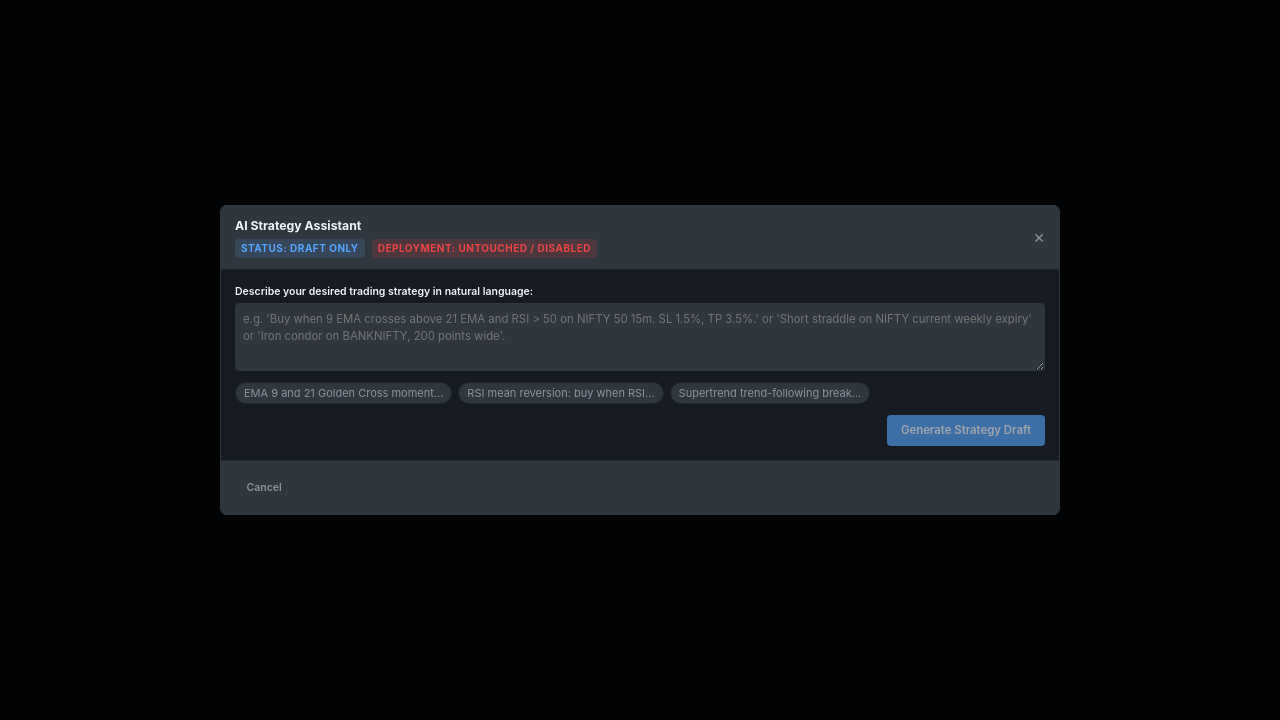
Test case: AIDraftModal Component (F5.3) › generates draft, displays diff, explanation, and warnings
Replace the text in the text box with test id "ai-prompt-input" with "Buy when 9 EMA crosses above 21 EMA on NIFTY 50 15m". click: (640, 337)
box: [235,303,1045,371]
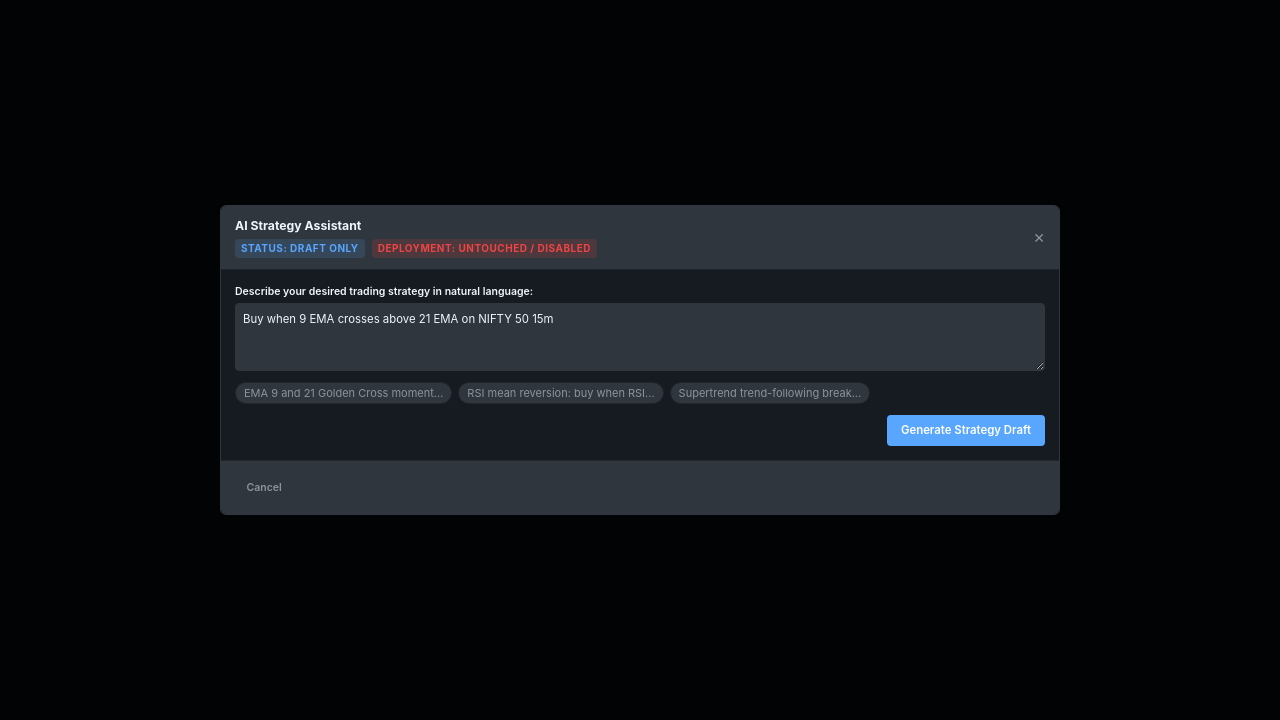
Click the button with test id "btn-generate-draft". click: (966, 430)
box: [887,415,1045,446]
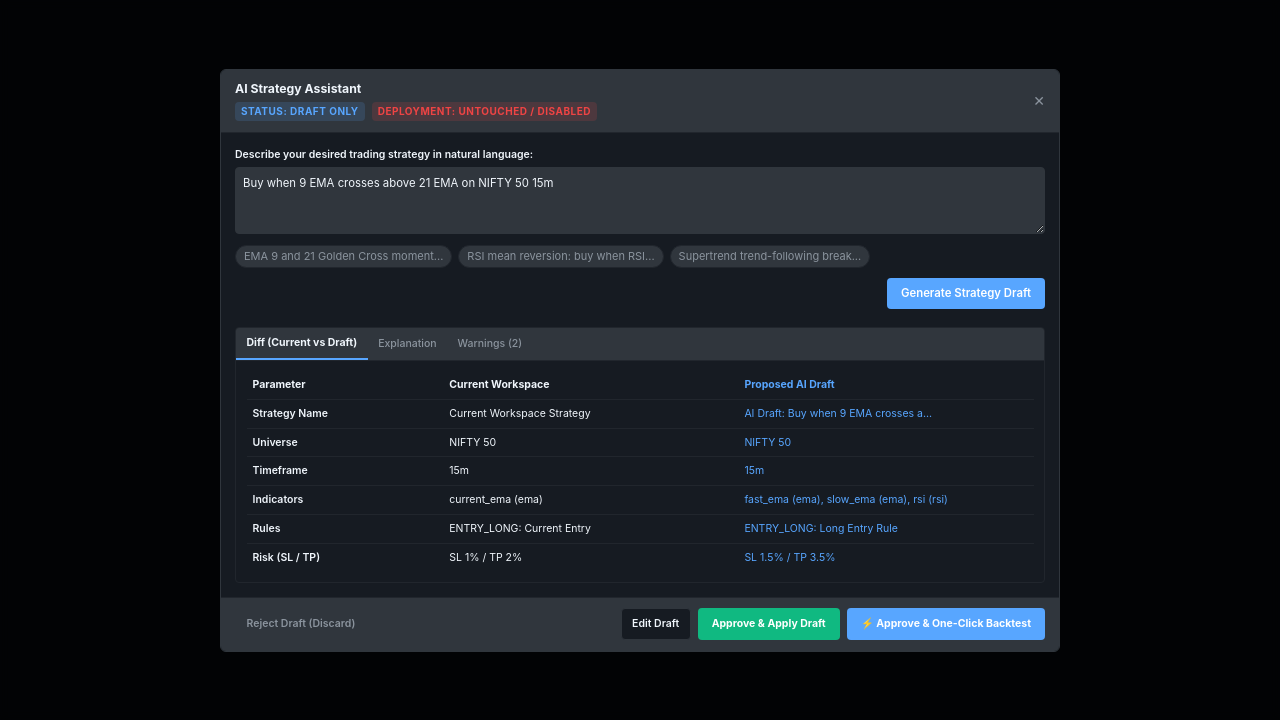
Check: the element with test id "ai-draft-content" is shown, box [235,327,1045,583]
Check: the element with test id "diff-container" is shown, box [236,360,1044,582]
Check: the text "Current Workspace Strategy" is shown, box [443,399,738,428]
// Tab switch to Explanation
Click the button with test id "tab-explanation". click: (407, 344)
box: [368,328,447,360]
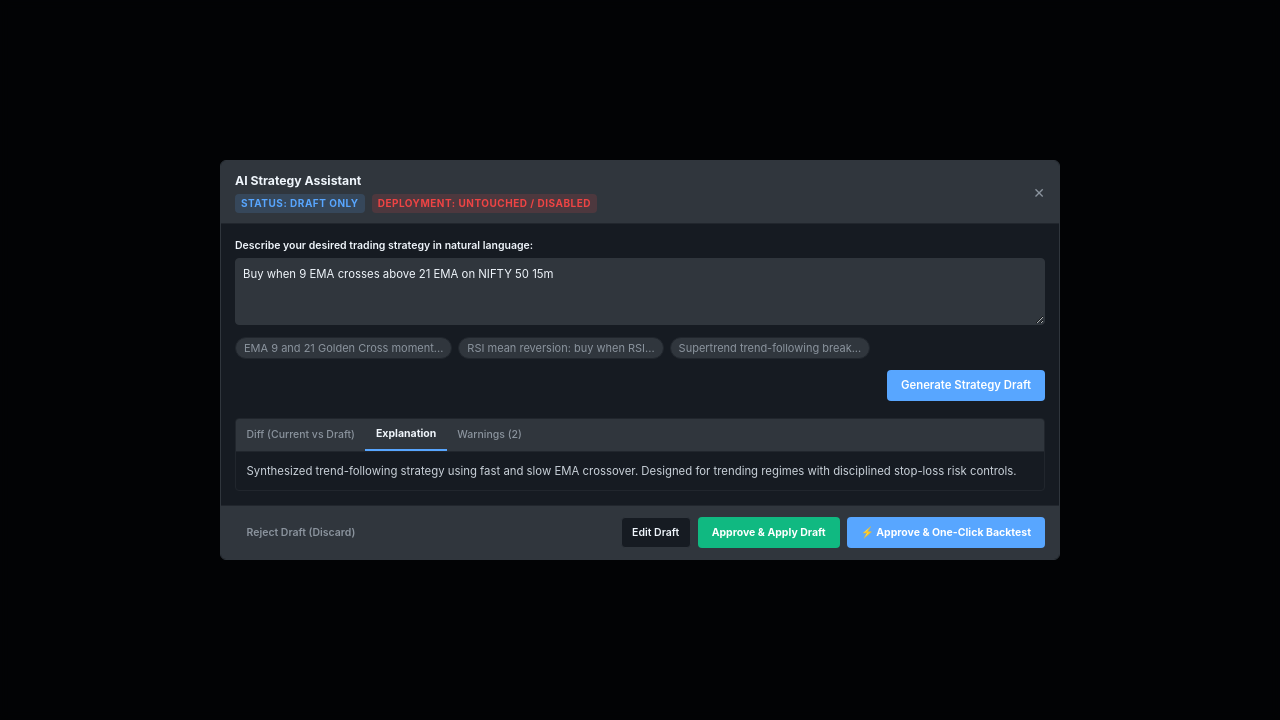
Check: the element with test id "explanation-container" is shown, box [246,464,1017,478]
// Tab switch to Warnings
Click the button with test id "tab-warnings". click: (490, 435)
box: [447,419,532,451]
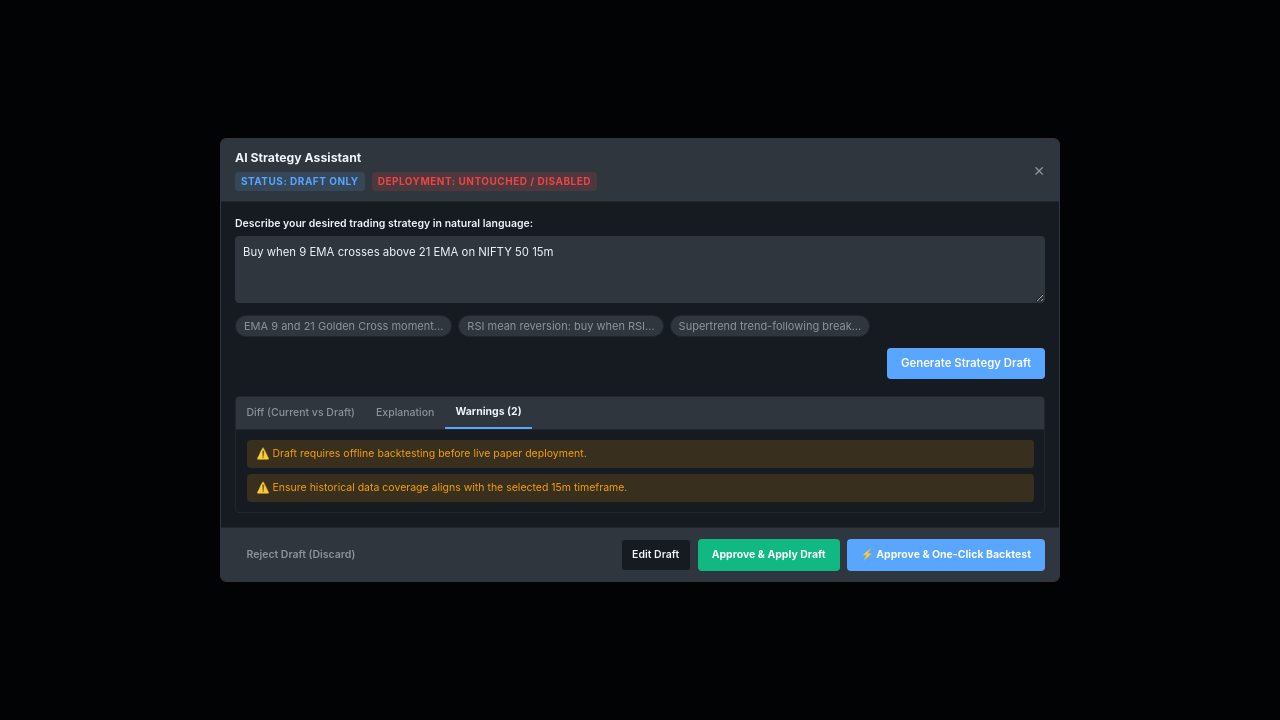
Check: the element with test id "warnings-container" is shown, box [236,430,1044,512]
